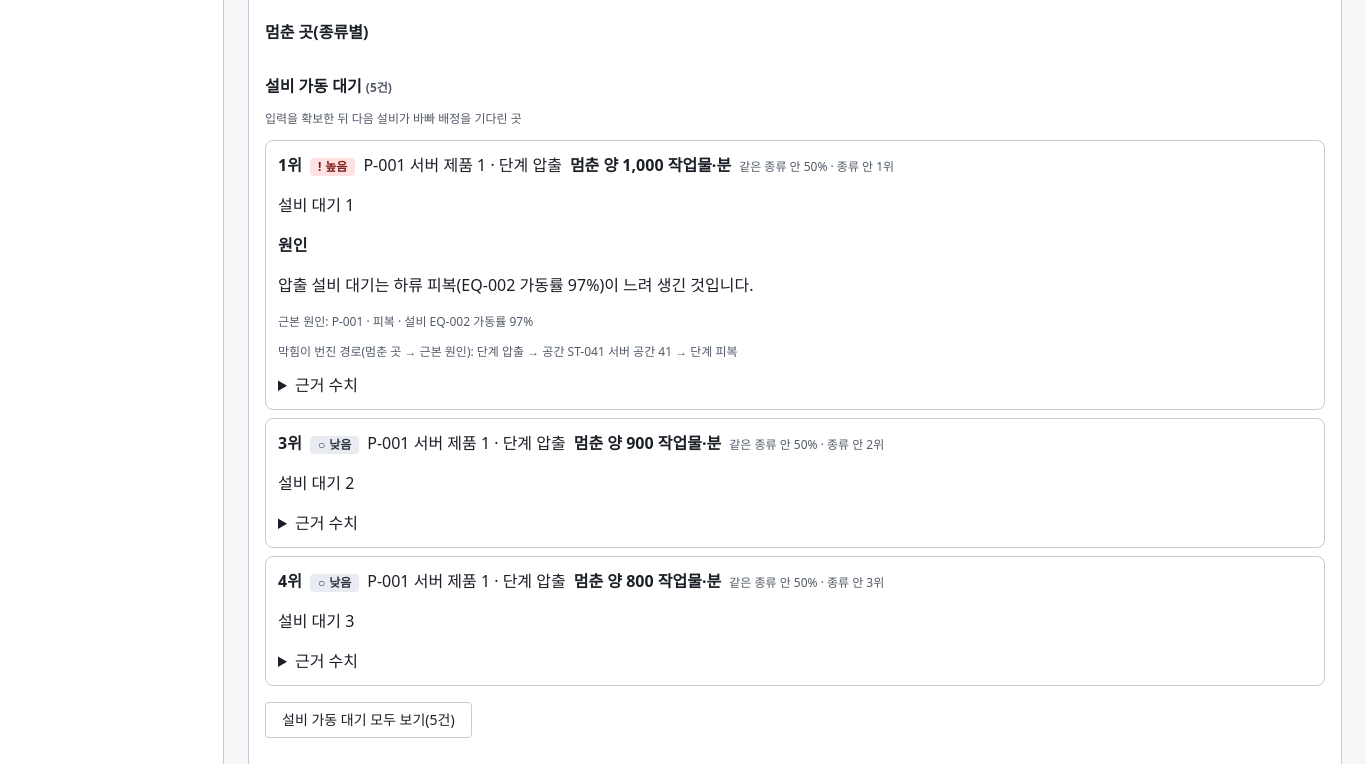
Scenario: 병목 요약 › 근거 수치는 열린 구조라 아는 키는 한국어로, 모르는 키는 원문으로 보인다
(page scrolled)
Click the heading "근거 수치" below "1,000" at (326, 385), box [295,374,358,396]
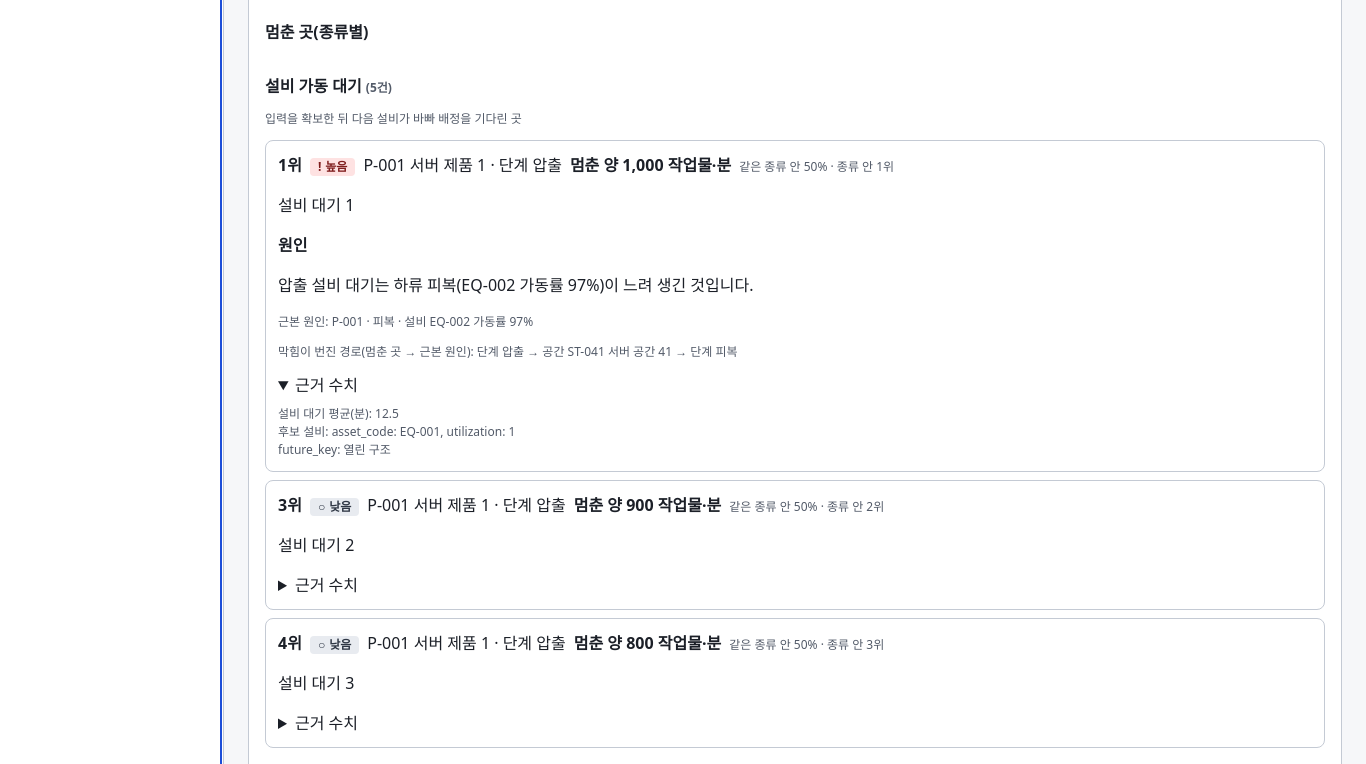
Expected: the list item "설비 대기 평균(분): 12.5" is shown, [278,405,399,422]
Expected: the list item "후보 설비: asset_code: EQ-001, utilization: 1" is shown, [278,423,515,440]
Expected: the list item "future_key: 열린 구조" is shown, [278,441,391,458]
